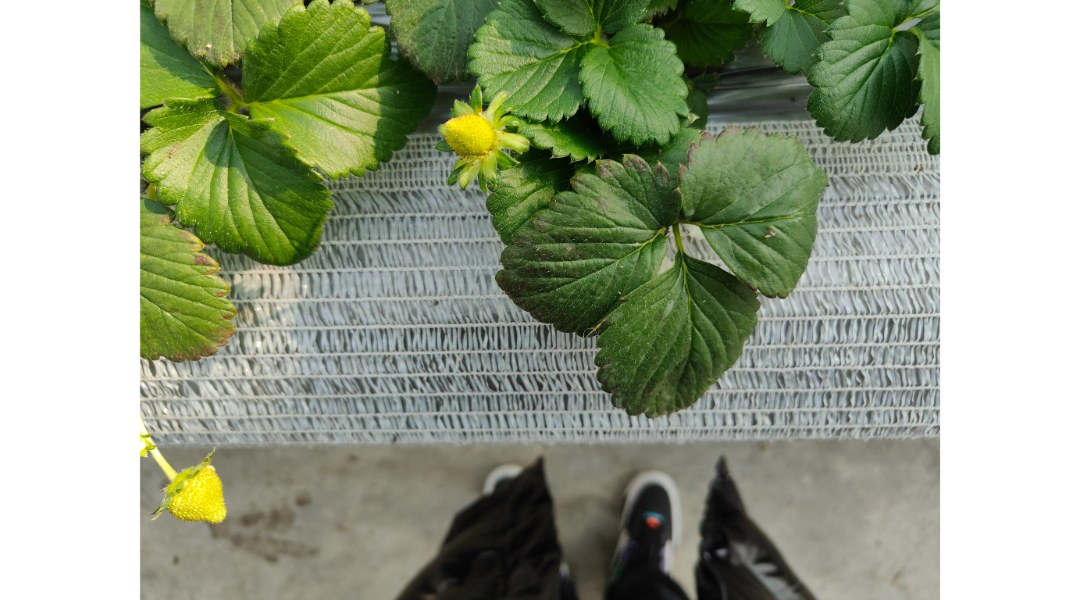berry: (424, 90, 522, 190), (151, 449, 240, 521)
